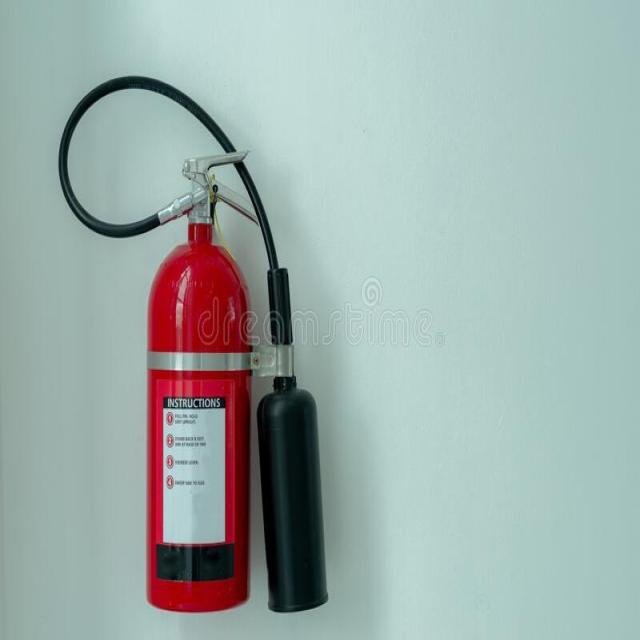fire_extinguisher: (52, 69, 334, 620)
